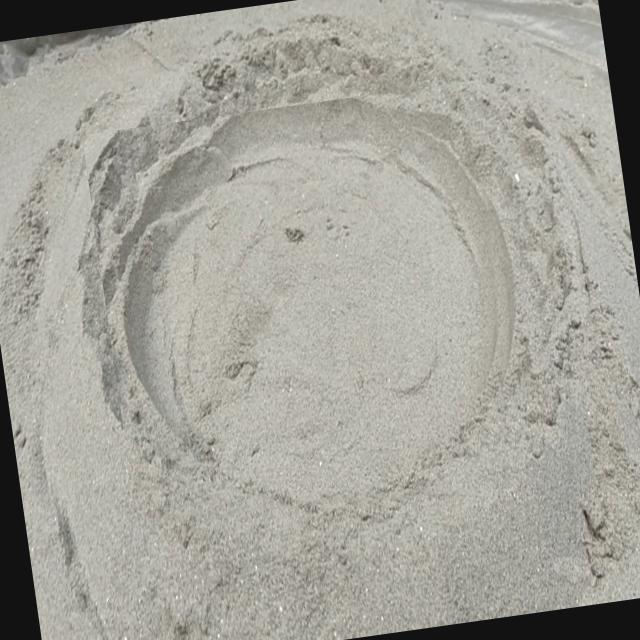C40: (99, 95, 502, 507)
